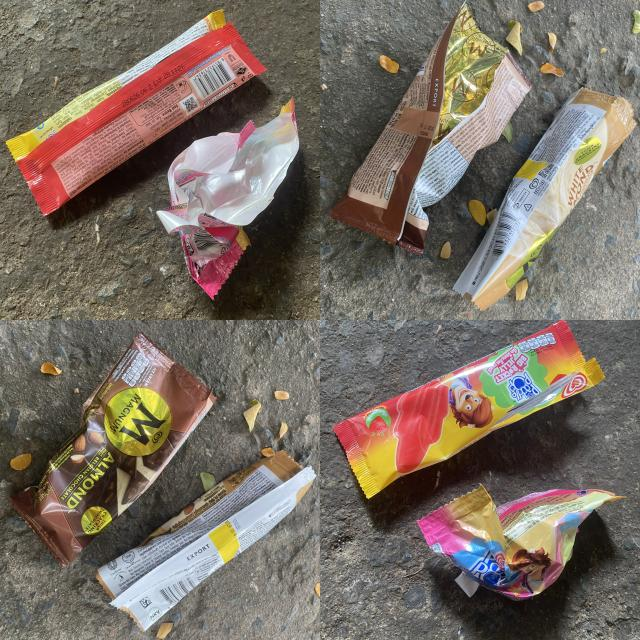plastik: (6, 10, 265, 215), (330, 4, 531, 254), (10, 332, 215, 566), (334, 321, 604, 497), (454, 89, 636, 310), (96, 451, 315, 630), (158, 101, 299, 299), (418, 486, 621, 599)
